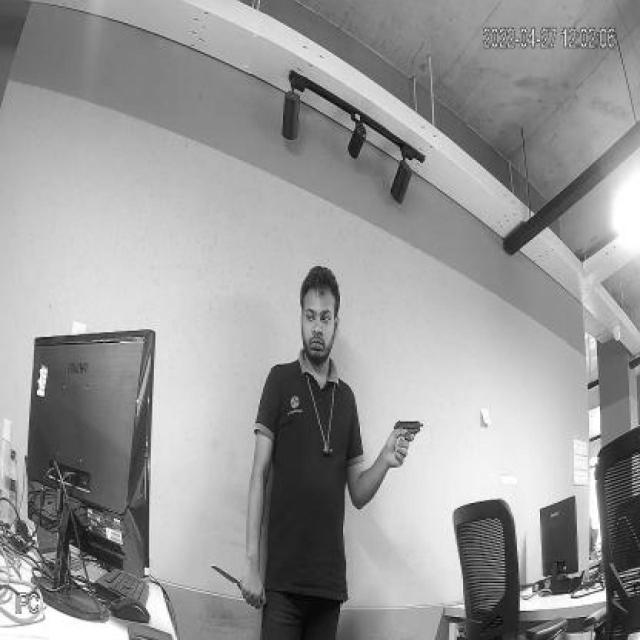weapon: (391, 417, 426, 452)
